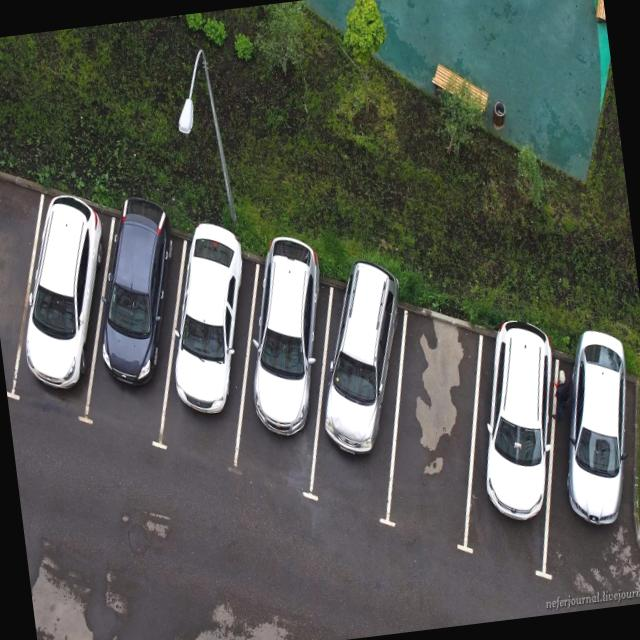car: (312, 278, 414, 515), (466, 324, 560, 576), (156, 238, 266, 453), (89, 204, 186, 442), (548, 340, 640, 582), (235, 262, 328, 480), (14, 190, 103, 411)
free: (386, 317, 488, 540), (0, 170, 48, 389)
